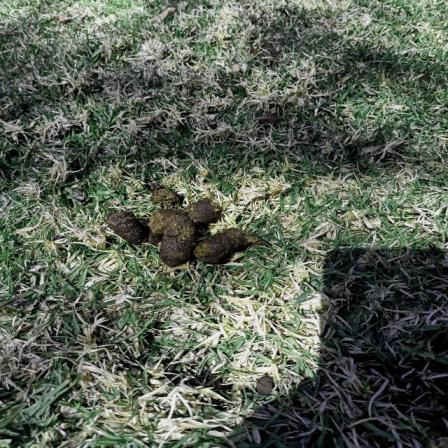dog-poop: (103, 180, 260, 271)
